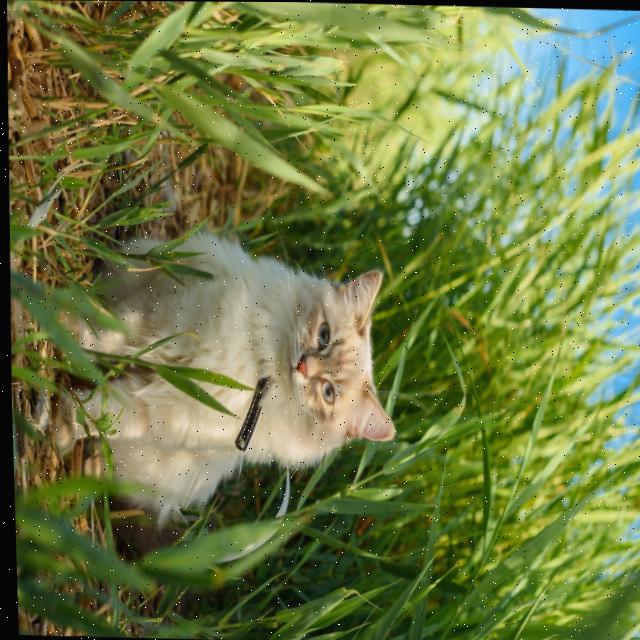Neva Masquerade: (35, 218, 403, 530)
